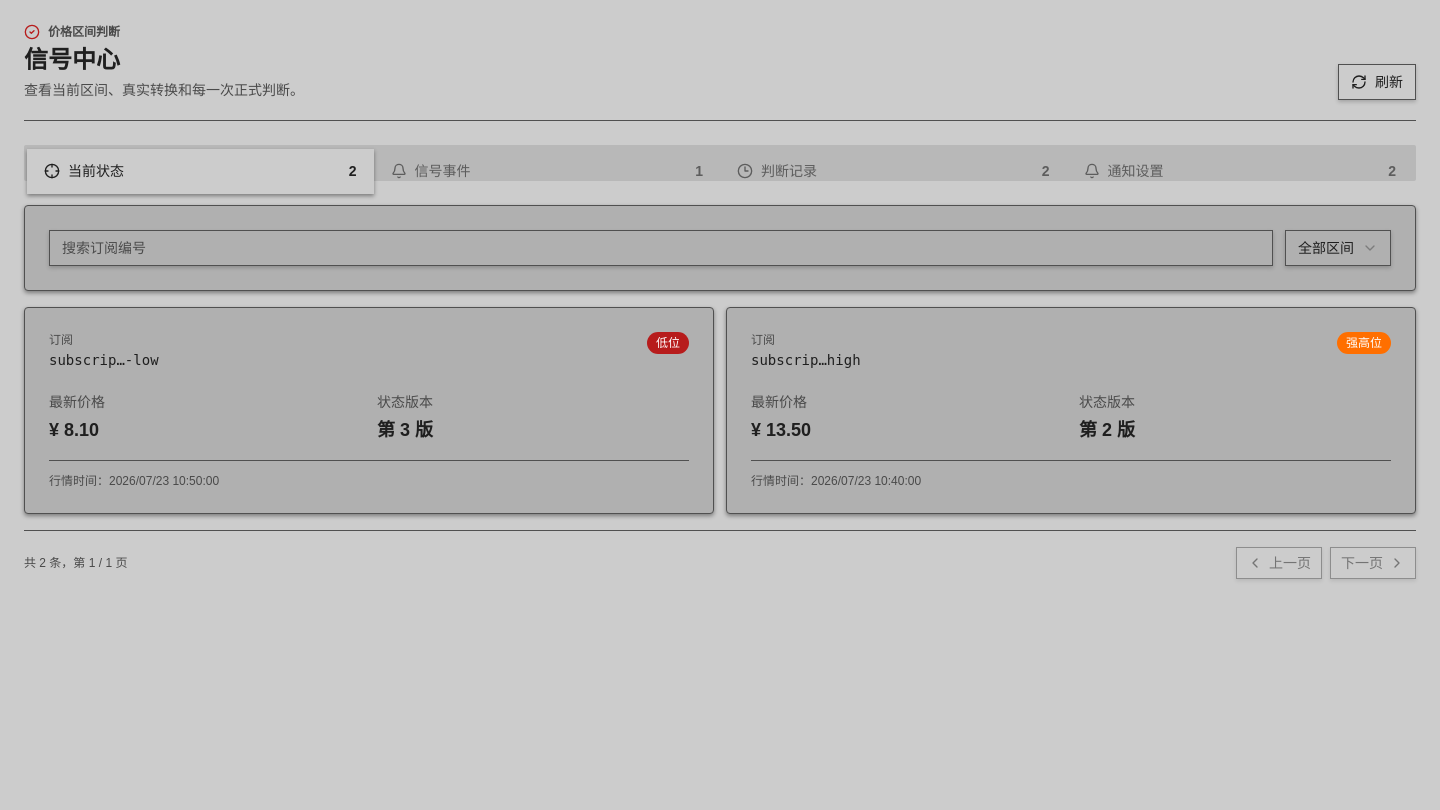
Scenario: 信号中心页面 › 展示当前状态并支持区间筛选
Expected: the text "¥ 8.10" is shown, [49, 420, 99, 440]
Expected: the text "¥ 13.50" is shown, [751, 420, 811, 440]
Click the dropdown named "按信号区间筛选" at (1338, 248), box [1285, 230, 1391, 266]
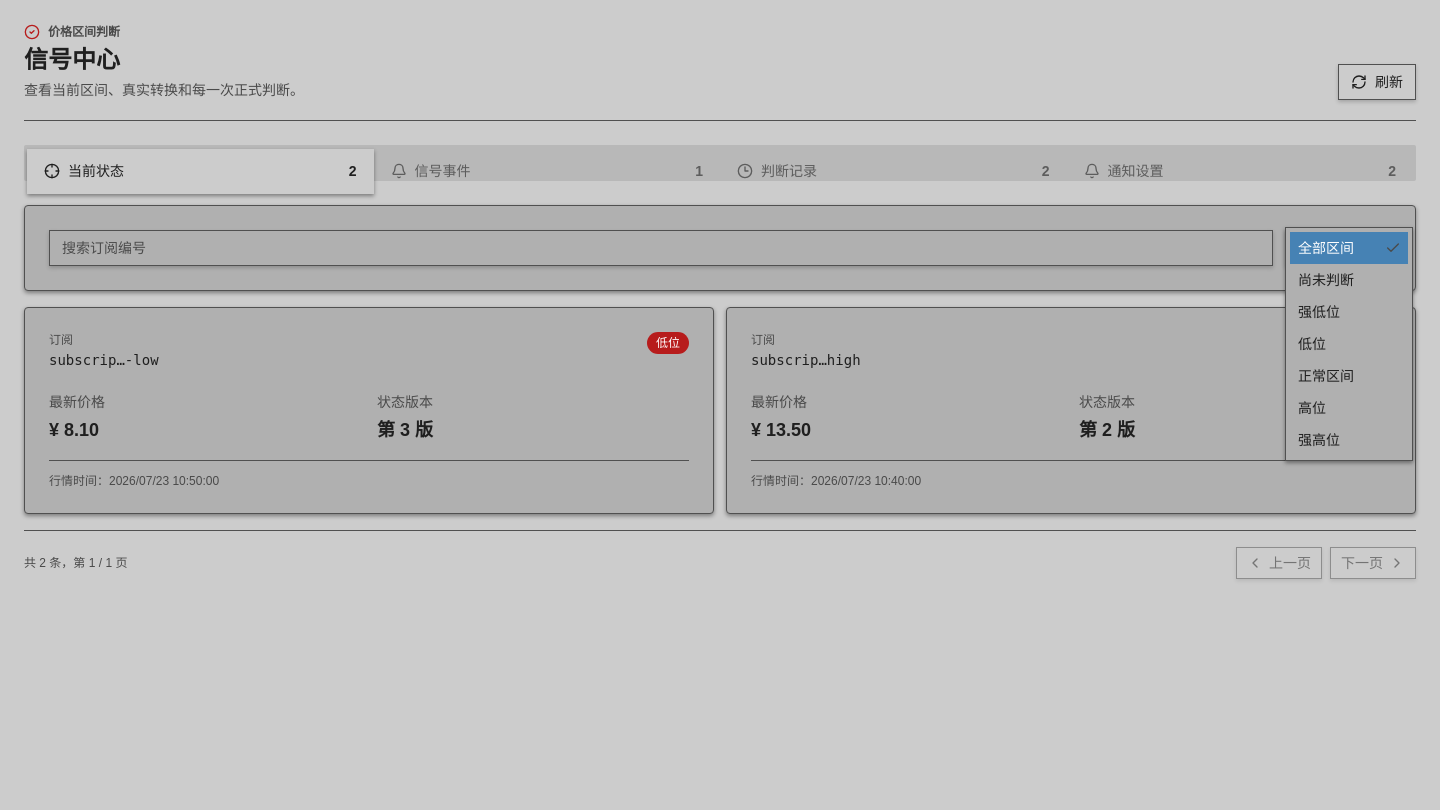
Click the option "低位" at (1312, 344), box [1298, 336, 1326, 352]
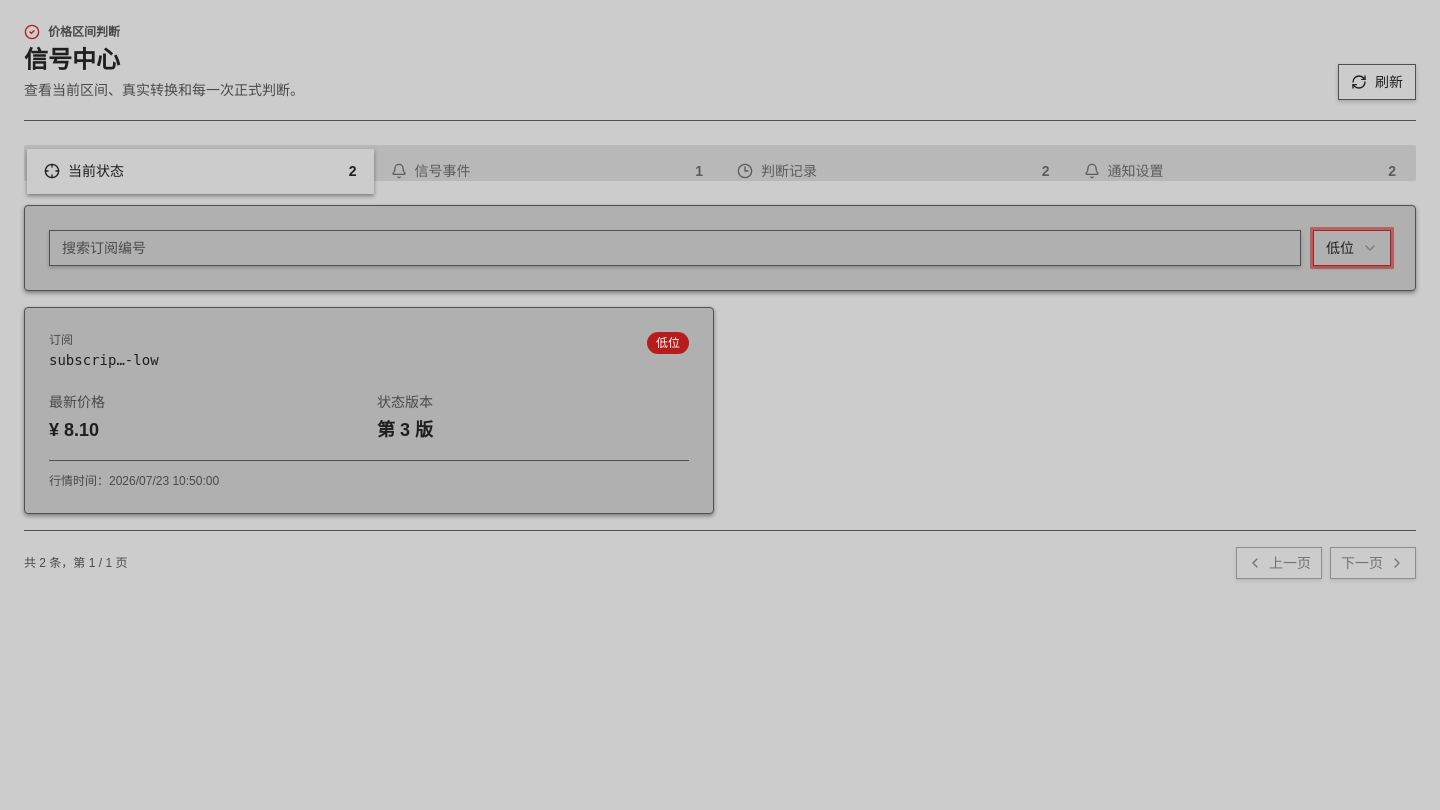
Expected: the text "¥ 8.10" is shown, [49, 420, 99, 440]
Now the text "¥ 13.50" is gone
